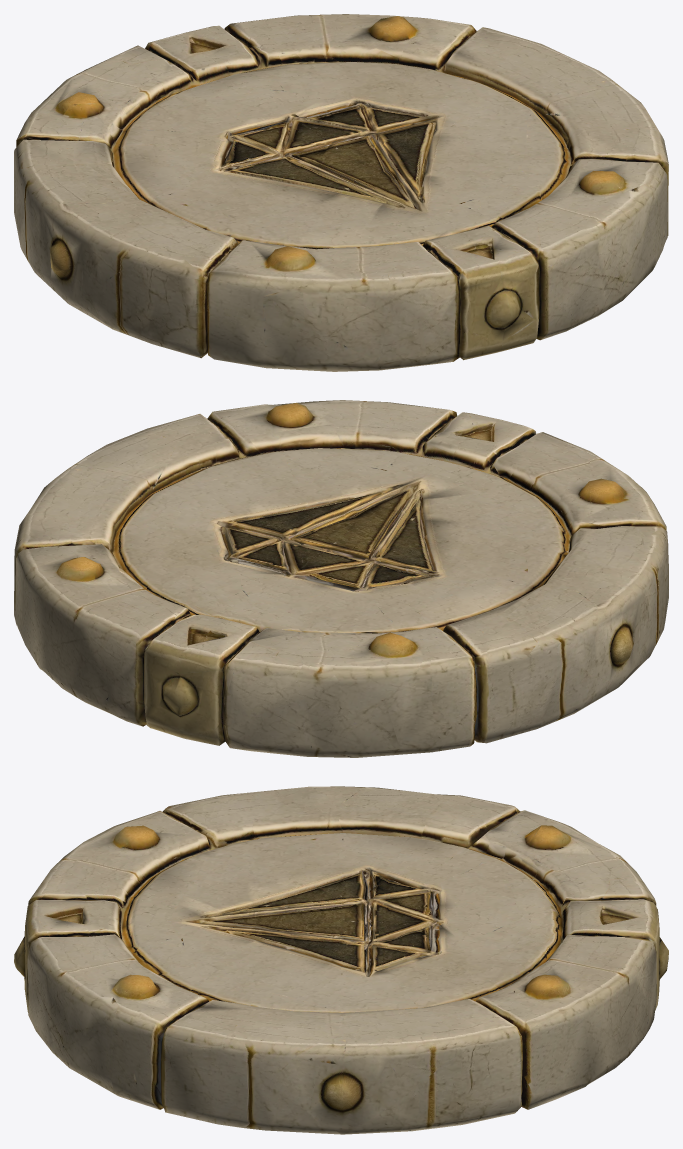
Rendered from batch2_07_lp.glb.
3 views of the same model, one above another, from view 1: azimuth 30°, elevation 25°; view 2: azimuth 150°, elevation 25°; view 3: azimuth 270°, elevation 25° (orthographic). The views are drawn at different scales.
Size of the model in its own units: 1.9 by 0.3199 by 1.89.
1 material, 1 textured.
